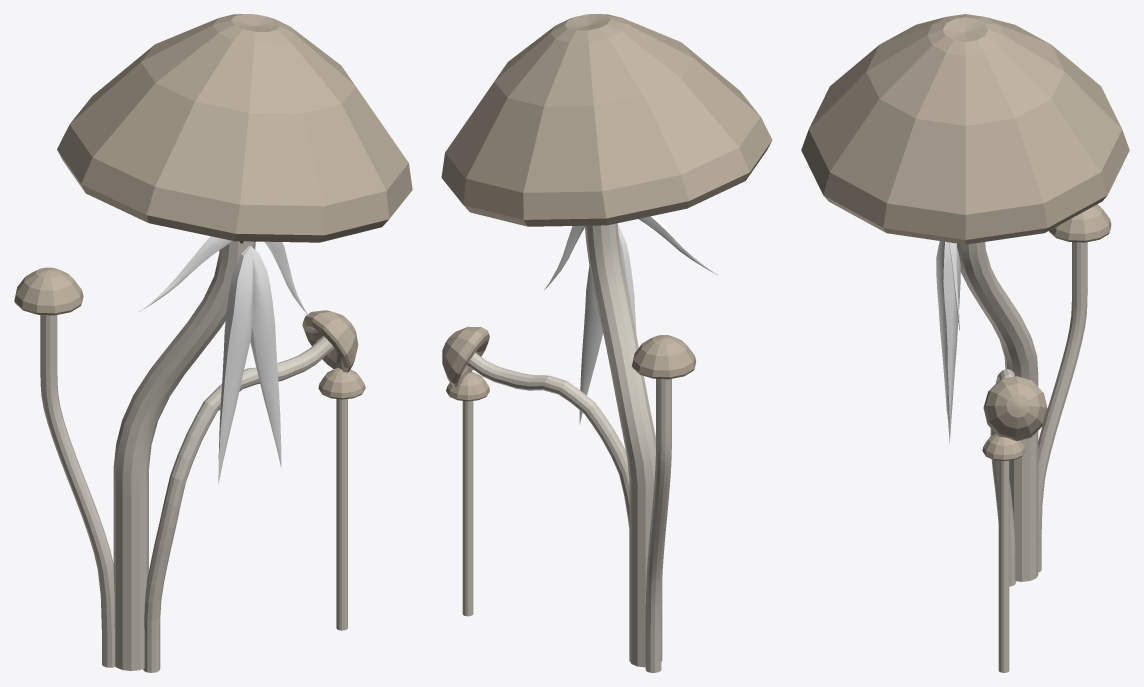
File: Enoki.fbx
3 views of the same model, side by side, from view 1: azimuth 30°, elevation 25°; view 2: azimuth 150°, elevation 25°; view 3: azimuth 270°, elevation 25° (orthographic). The views are drawn at different scales.
Parts seen in each view (by area): view 1: hat, body, muschtstache, arm_front, arm_back, cane_stick, hand_back, hand_front, cane_head, eyebrow_2, eyebrow_1; view 2: hat, body, arm_back, arm_front, cane_stick, muschtstache, hand_back, hand_front, cane_head, eyebrow_2; view 3: hat, body, arm_back, hand_front, muschtstache, cane_stick, hand_back, arm_front, cane_head.
Boxes of the visible parts, x1,y1,x2,y2 form: hat: [57, 14, 412, 242]; body: [113, 241, 255, 670]; muschtstache: [218, 245, 281, 484]; arm_front: [143, 336, 334, 672]; arm_back: [40, 315, 115, 667]; cane_stick: [336, 399, 347, 630]; hand_back: [14, 267, 83, 315]; hand_front: [302, 310, 358, 372]; cane_head: [318, 367, 365, 399]; eyebrow_2: [139, 236, 232, 311]; eyebrow_1: [264, 241, 308, 315]; hat: [441, 14, 772, 226]; body: [585, 223, 662, 667]; arm_back: [645, 379, 671, 672]; arm_front: [466, 352, 629, 527]; cane_stick: [462, 401, 473, 616]; muschtstache: [579, 224, 636, 424]; hand_back: [632, 335, 696, 379]; hand_front: [442, 326, 489, 386]; cane_head: [446, 372, 489, 401]; eyebrow_2: [638, 215, 718, 275]; hat: [801, 14, 1129, 244]; body: [957, 242, 1038, 581]; arm_back: [1038, 242, 1087, 572]; hand_front: [983, 376, 1047, 440]; muschtstache: [936, 241, 960, 443]; cane_stick: [998, 460, 1009, 672]; hand_back: [1049, 204, 1111, 242]; arm_front: [990, 369, 1015, 586]; cane_head: [982, 434, 1025, 460].
Bounding box in the file's own units: 5.91 × 11.94 × 5.97.
